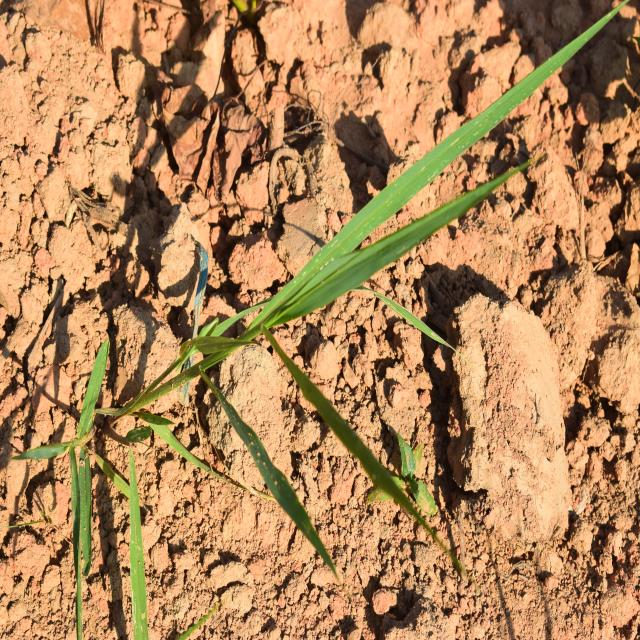green_foxtail: (122, 158, 512, 604)
